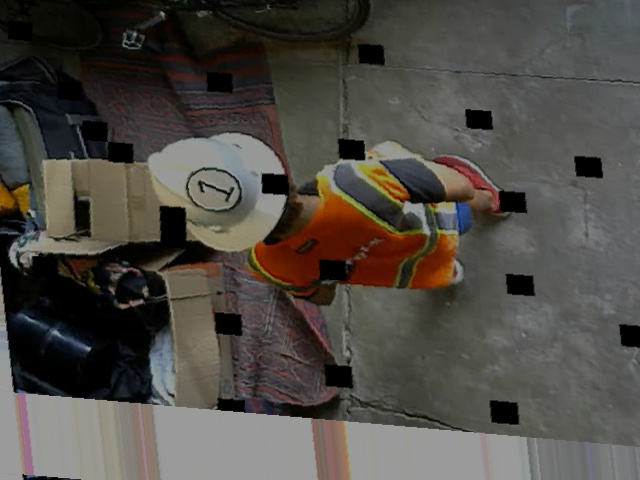one: (185, 164, 239, 211)
